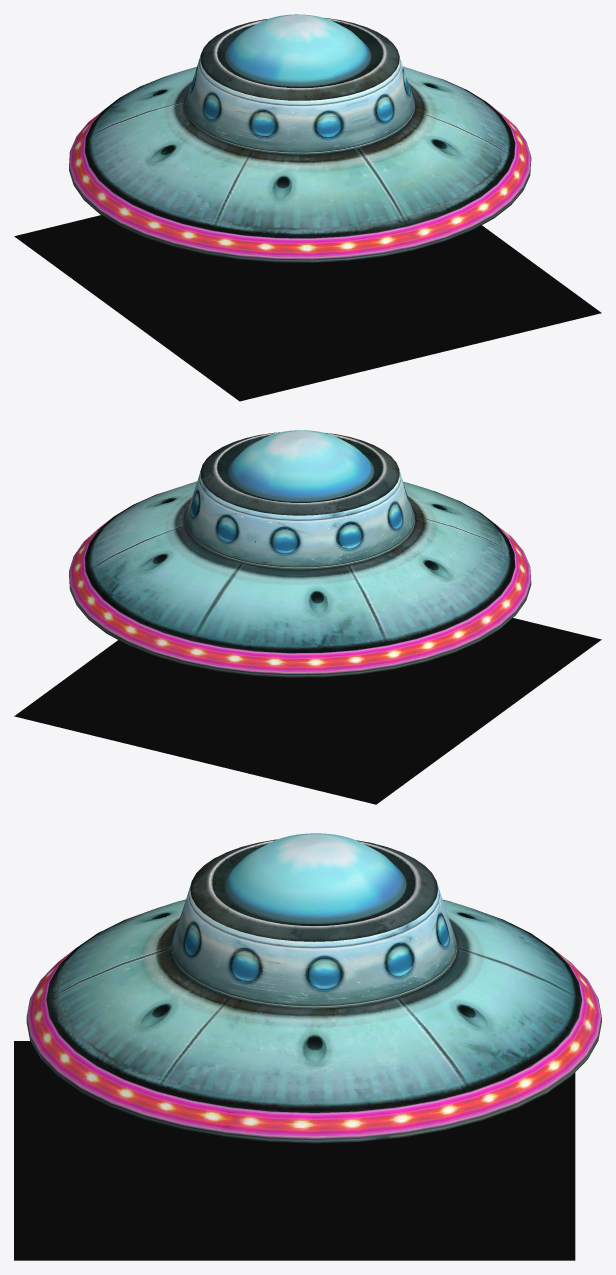
Rendered from Player_ufo.fbx.
The picture shows the model from 3 angles, top to bottom: view 1: azimuth 30°, elevation 25°; view 2: azimuth 150°, elevation 25°; view 3: azimuth 270°, elevation 25°; orthographic projection. The views are drawn at different scales.
Parts seen in each view (by area): view 1: pl_ufo, veh_shadow (×2); view 2: pl_ufo, veh_shadow (×2); view 3: pl_ufo, veh_shadow (×2).
Boxes of the visible parts, x1=… form: pl_ufo: x1=69, y1=14, x2=531, y2=262; veh_shadow (×2): x1=14, y1=215, x2=601, y2=401; pl_ufo: x1=69, y1=430, x2=531, y2=677; veh_shadow (×2): x1=14, y1=618, x2=601, y2=804; pl_ufo: x1=26, y1=833, x2=601, y2=1143; veh_shadow (×2): x1=14, y1=1041, x2=575, y2=1260.
Size of the model in its own units: 4.44 by 2.6 by 4.53.
Materials: 4 (4 with a texture image).
